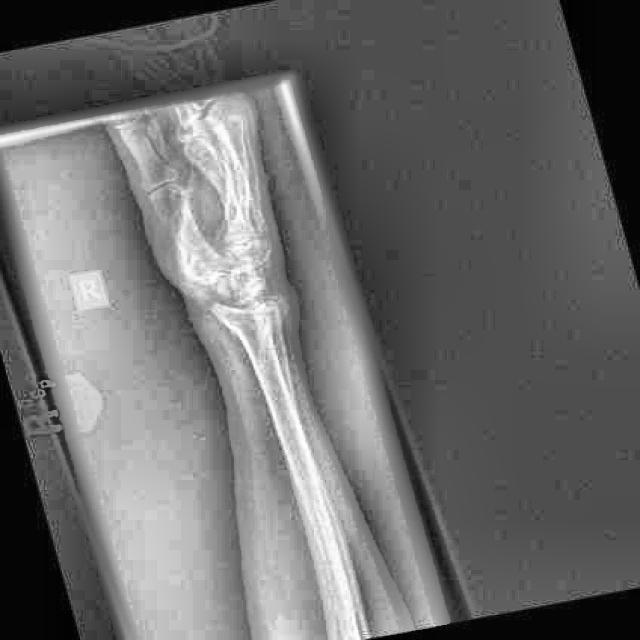fingers positive: (242, 299, 292, 344)
